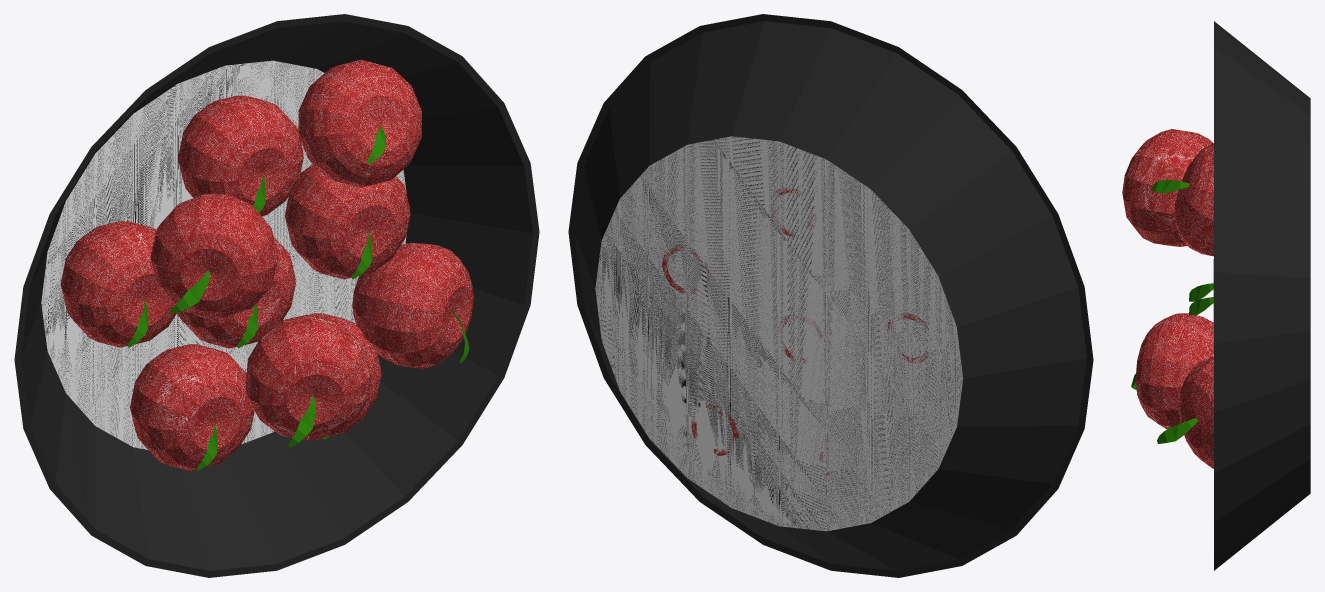
3 views of the same model, side by side, from view 1: azimuth 30°, elevation 25°; view 2: azimuth 150°, elevation 25°; view 3: azimuth 270°, elevation 25° (orthographic). The views are drawn at different scales.
Visible parts, largest first — view 1: plate with apples; view 2: plate with apples; view 3: plate with apples.
Boxes of the visible parts, x1,y1,x2,y2 form: plate with apples: (14,14,539,577); plate with apples: (568,14,1093,577); plate with apples: (1122,21,1310,570).
Bounding box in the file's own units: 13.19 × 13.19 × 4.39.
